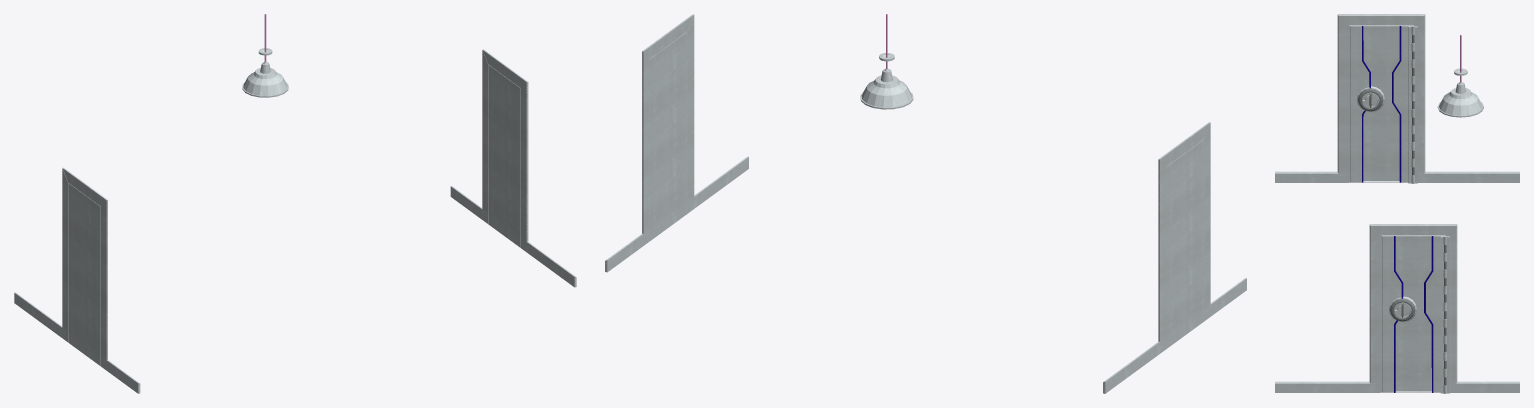
The model's file is extra_01_01.FBX.
3 renders of one model, left to right at view 1: azimuth 30°, elevation 25°; view 2: azimuth 150°, elevation 25°; view 3: azimuth 270°, elevation 25°, orthographic. The views are drawn at different scales.
Parts seen in each view (by area): view 1: puerta_02, puerta_01, lampara; view 2: puerta_01, puerta_02, lampara; view 3: puerta_01, puerta_02, lampara.
Boxes of the visible parts, bbox=[...] form: puerta_02: bbox=[450, 49, 576, 287]; puerta_01: bbox=[14, 167, 140, 393]; lampara: bbox=[242, 14, 288, 97]; puerta_01: bbox=[1103, 122, 1246, 393]; puerta_02: bbox=[605, 14, 748, 272]; lampara: bbox=[860, 14, 913, 109]; puerta_01: bbox=[1275, 14, 1519, 183]; puerta_02: bbox=[1275, 224, 1519, 393]; lampara: bbox=[1437, 35, 1483, 117].
Bounding box in the file's own units: 5.89 × 3.27 × 2.86.
